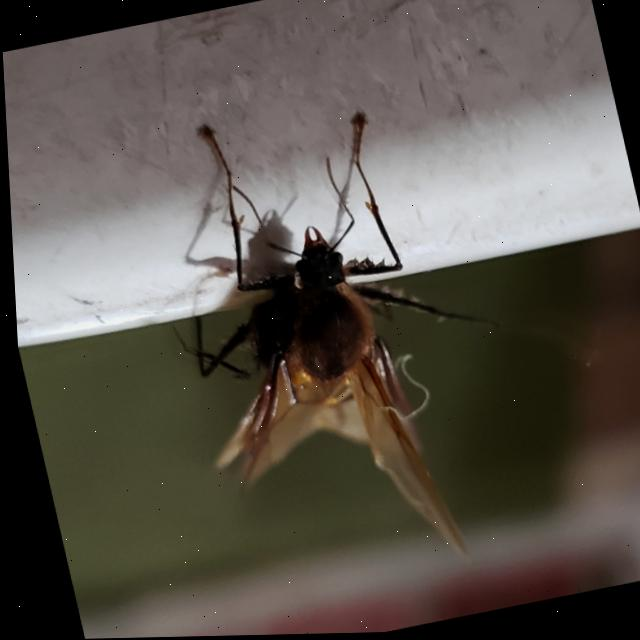Alive-Male-Alate: (124, 76, 548, 610)
